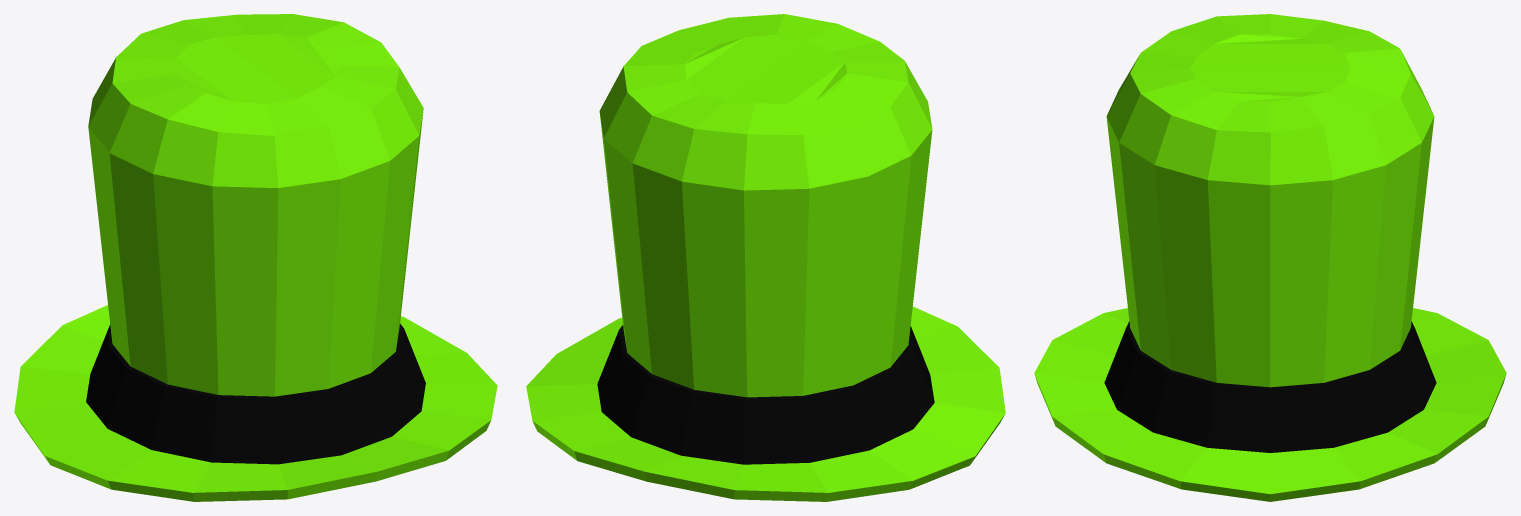
File: ToyObject_167.fbx
3 renders of one model, left to right at view 1: azimuth 30°, elevation 25°; view 2: azimuth 150°, elevation 25°; view 3: azimuth 270°, elevation 25°, orthographic. The views are drawn at different scales.
Parts seen in each view (by area): view 1: Object.030; view 2: Object.030; view 3: Object.030.
Part boxes in pixels (bbox=[...]): Object.030: bbox=[14, 14, 497, 501]; Object.030: bbox=[526, 14, 1005, 501]; Object.030: bbox=[1034, 14, 1506, 501].
Size of the model in its own units: 0.1618 by 0.1281 by 0.1618.
